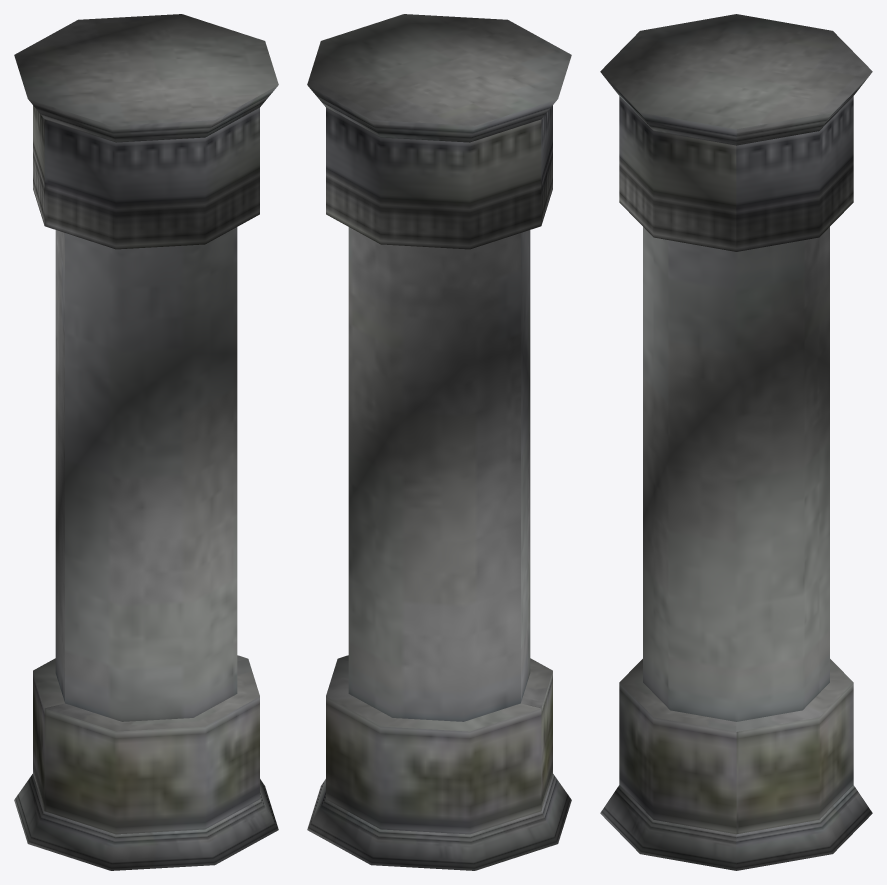
File: sd_pillar_01.glb
The picture shows the model from 3 angles, left to right: view 1: azimuth 30°, elevation 25°; view 2: azimuth 150°, elevation 25°; view 3: azimuth 270°, elevation 25°; orthographic projection.
Visible parts, largest first — view 1: pillar_01; view 2: pillar_01; view 3: pillar_01.
Part boxes in pixels (bbox=[...]): pillar_01: bbox=[14, 14, 278, 870]; pillar_01: bbox=[307, 14, 571, 870]; pillar_01: bbox=[600, 14, 872, 870].
Size of the model in its own units: 0.9999 by 3 by 0.9999.
1 material, 1 textured.
